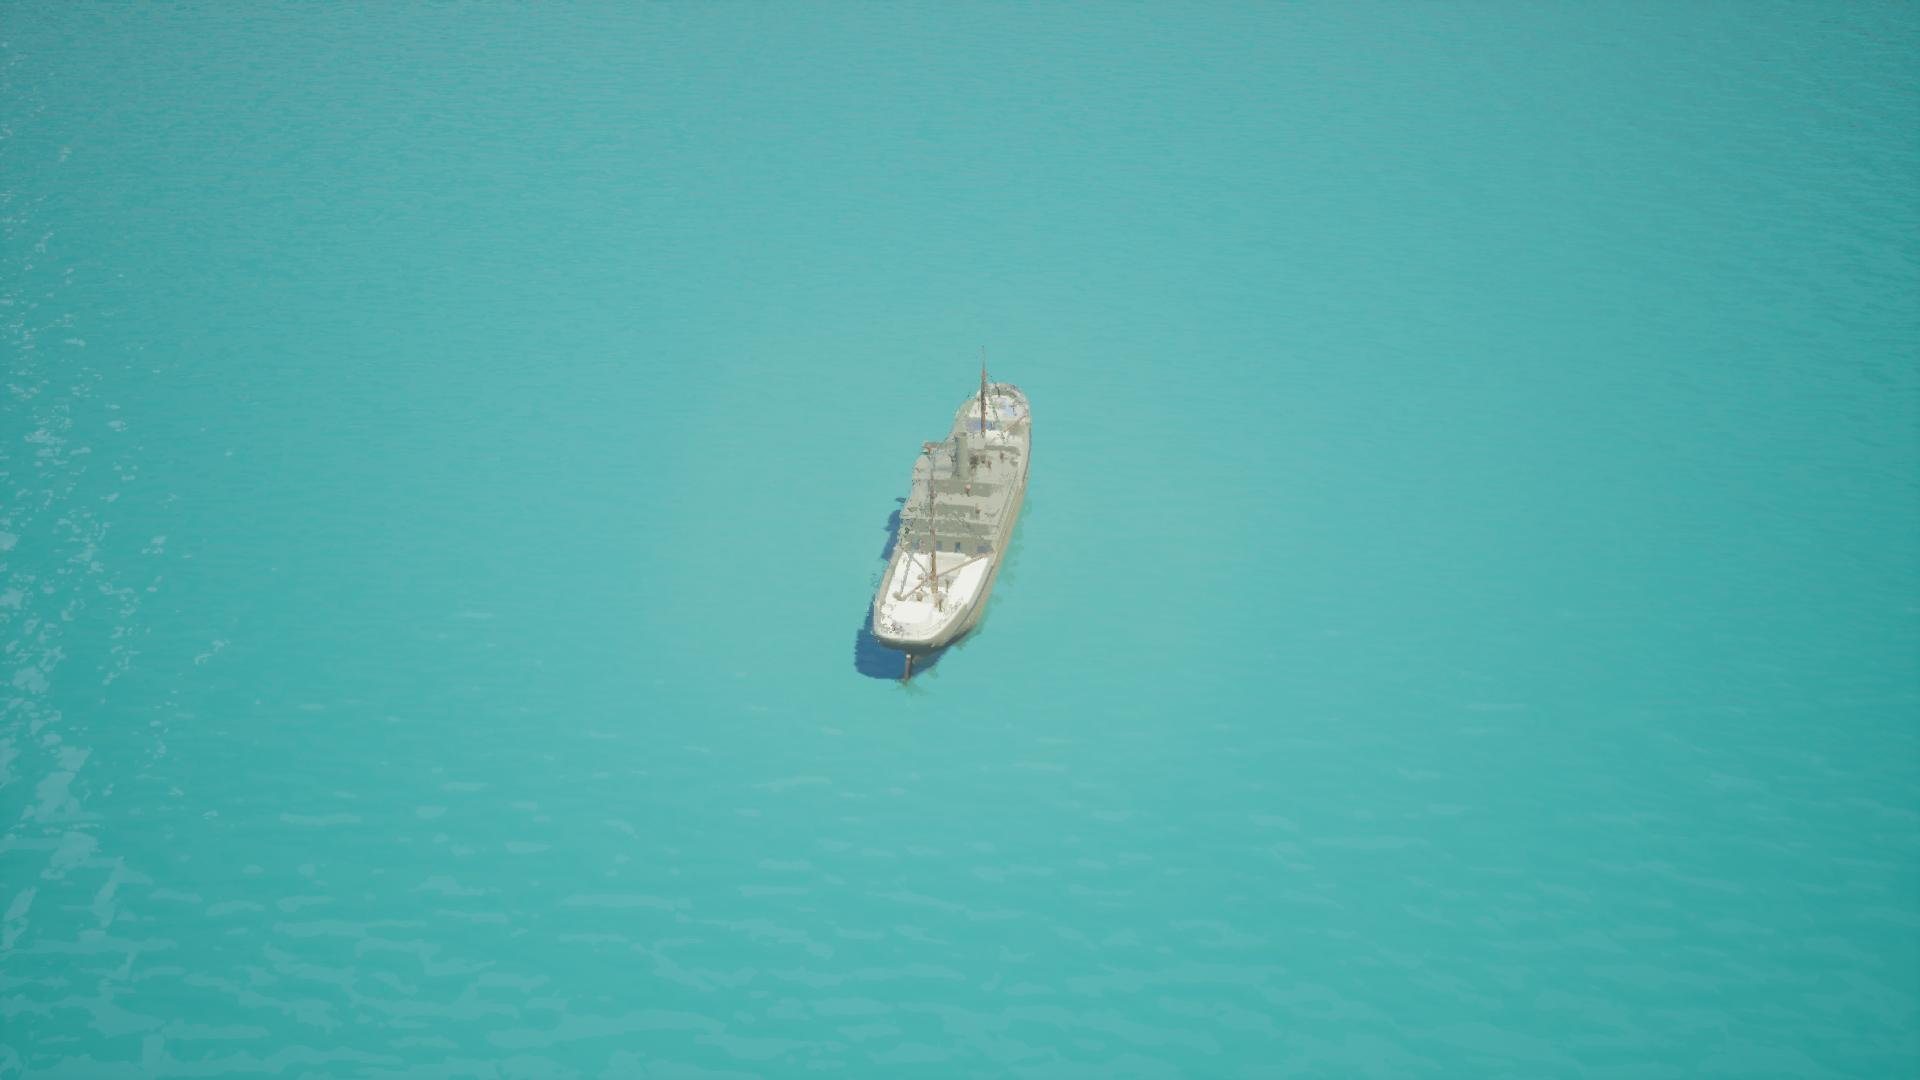Fishing Boat: (861, 353, 1040, 687)
